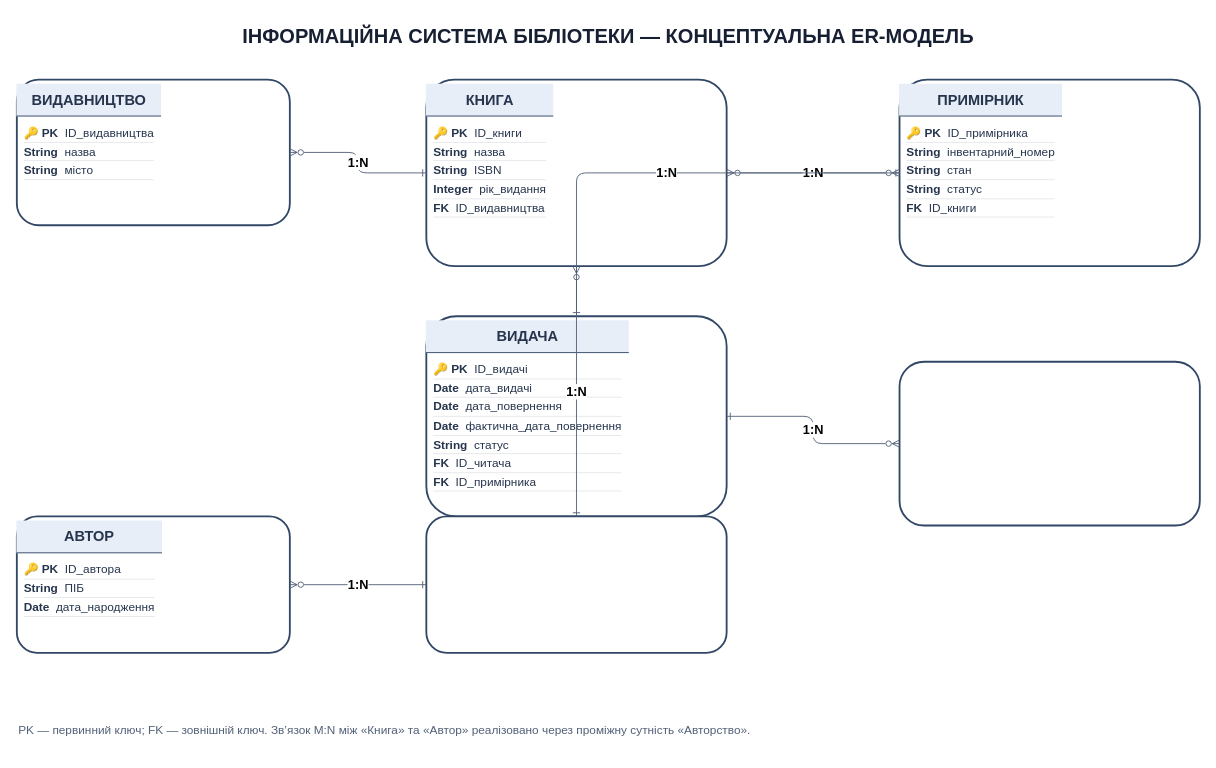
Some shapes in this 1216 by 768 pixel diagram are drawn without their labels. Each missing label, with the centre of its shape:
"АВТОРСТВО 🔑 PK ID_авторства FK ID_книги FK ID_автора" belongs at (x=576, y=584).
"ЧИТАЧ 🔑 PK ID_читача String ПІБ String телефон String email Date дата_реєстрації" belongs at (x=1049, y=443).
